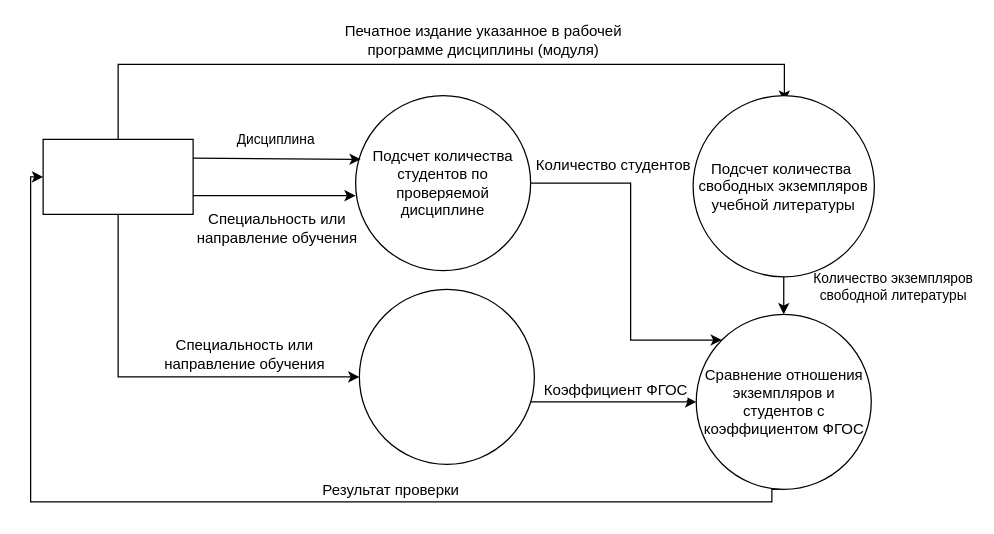
Image size: 994x534. Some labels were removed from this diagram. Each missing label, with the centre of its shape:
Получение актуального коэффициента ФГОС для направления обучения: the point at 446,376
Проверяющий: the point at 117,176
